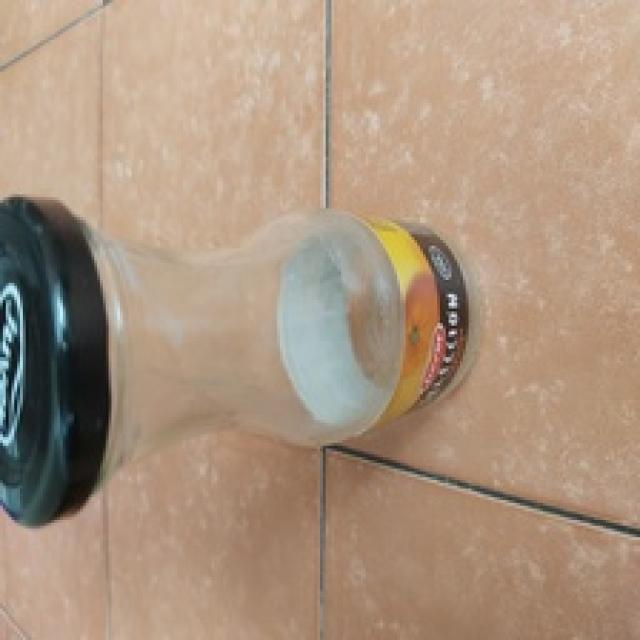Glass: (118, 212, 474, 456)
